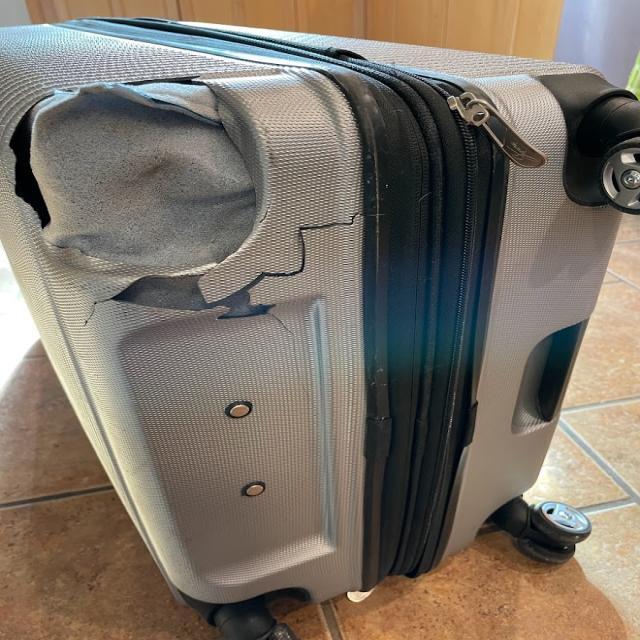Damage-bag: (8, 74, 365, 337)
